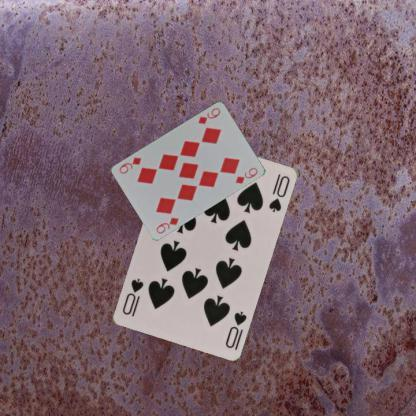10s: (222, 308, 248, 350)
9d: (195, 104, 222, 126), (154, 214, 180, 235)
